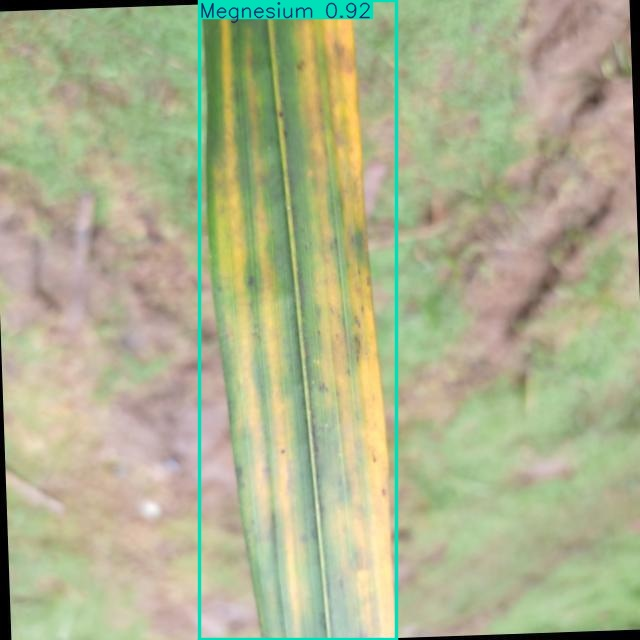Megnesium: (200, 0, 397, 640)
